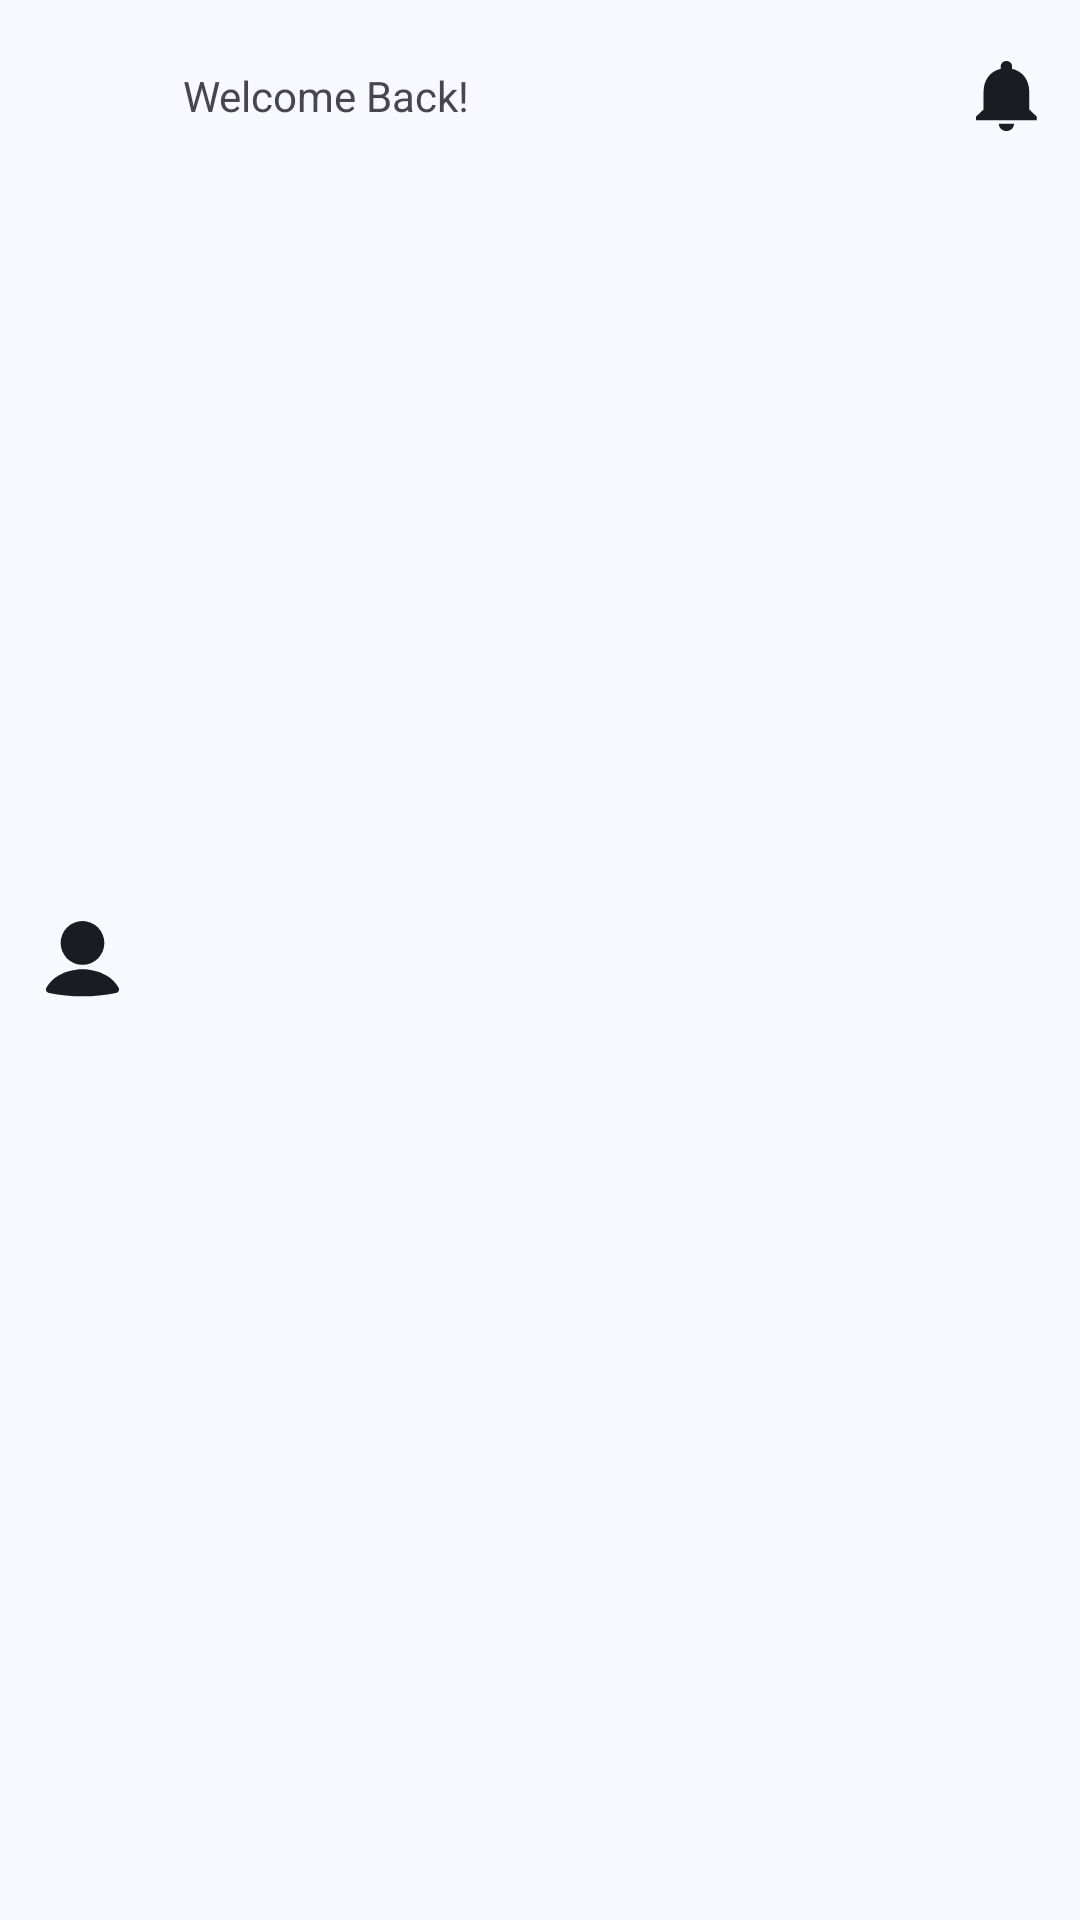

Locate icon controls on the screen. Image size 1080 × 1920, boxes as region(x1, y1, x2, y2).
user: region(46, 921, 119, 997)
